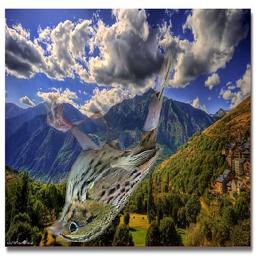Sparrow: (48, 48, 179, 242)
